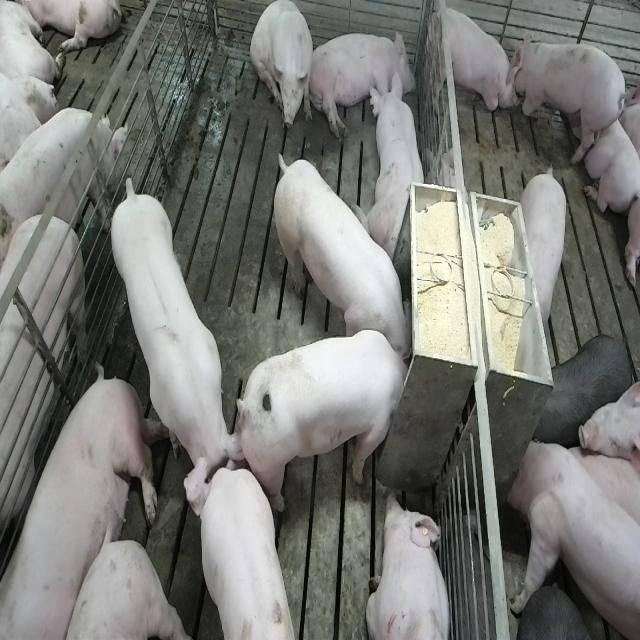Feeding: (244, 328, 418, 513), (269, 144, 411, 360)
Lateral_lying: (307, 27, 417, 140)
Sitting: (422, 0, 515, 124), (250, 3, 315, 137)
Standing: (109, 175, 246, 517), (0, 206, 88, 603), (506, 438, 638, 640), (190, 463, 301, 640), (0, 103, 125, 254), (510, 26, 626, 166), (536, 331, 634, 447), (521, 161, 572, 325)
Sternal_lying: (360, 74, 431, 260), (366, 489, 453, 640), (572, 81, 639, 212)
